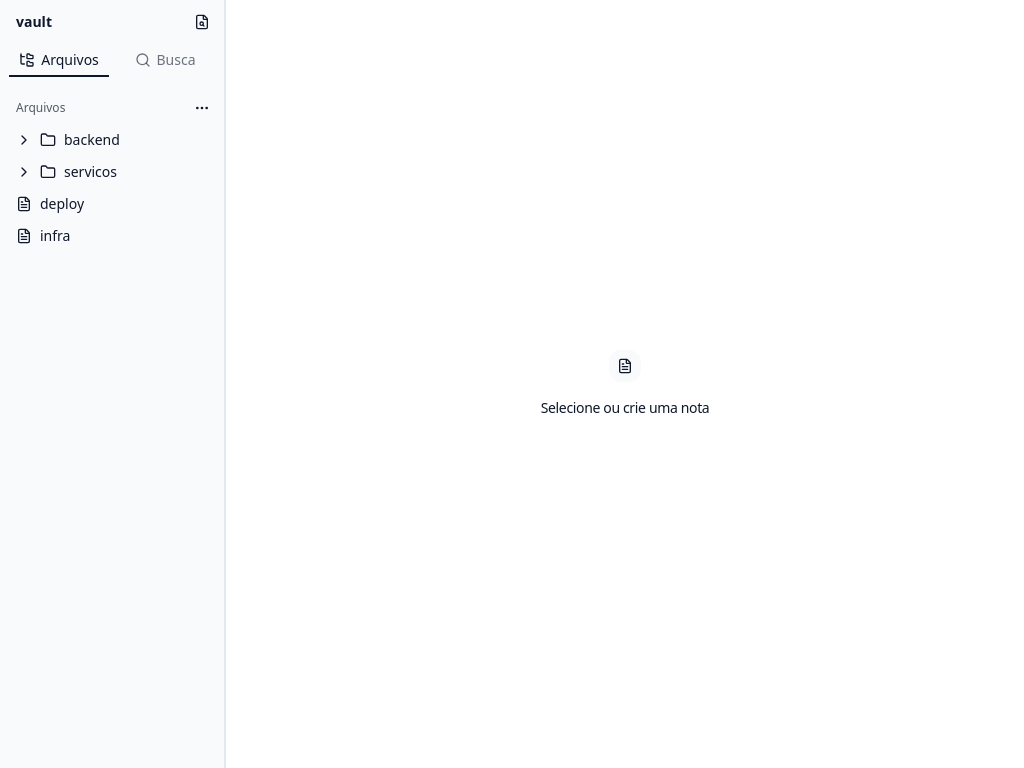
Test: o editor acompanha as operações do vault › excluir a nota aberta fecha o editor
The width and height of the screenshot is (1024, 768).
Expected: the navigation bar named "Arquivos do vault" is shown, [8,124,216,252]
What coordinates should you click on to do the following:
click the button "deploy"
I would click on:
 (112, 204)
Its box is [8,188,216,220].
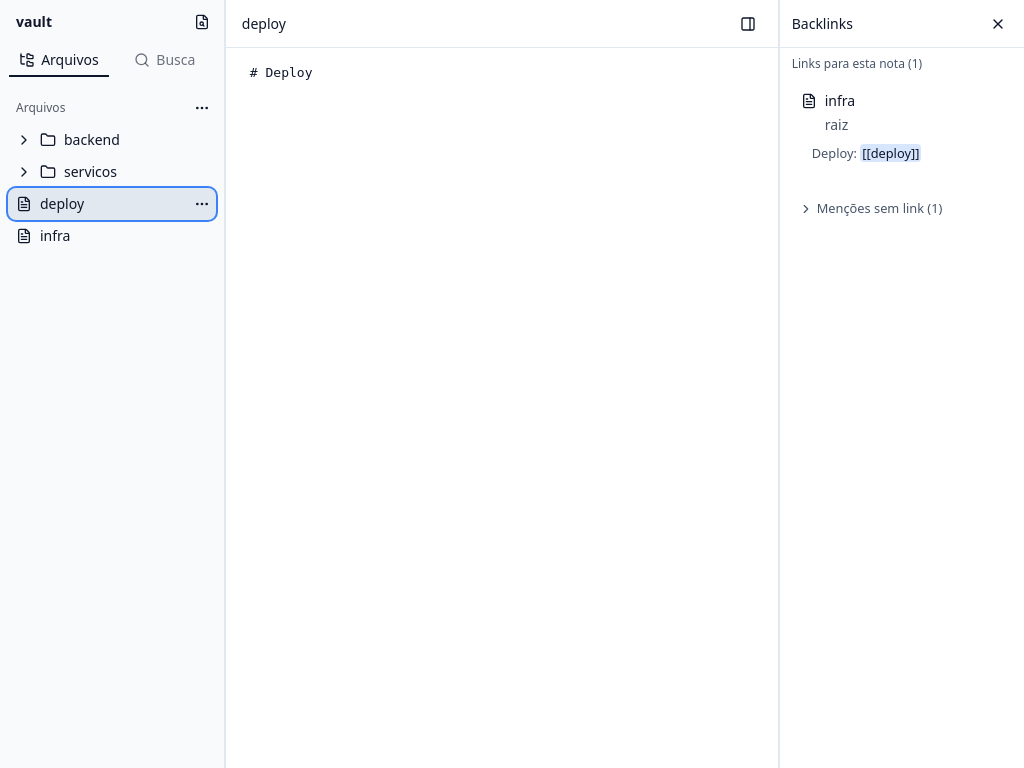
Now the element "deploy" is shown, box [226,0,778,767]
What coordinates should you click on to do the following:
click the button named "Ações de deploy"
I would click on:
 (202, 204)
Its box is [192,194,212,214].
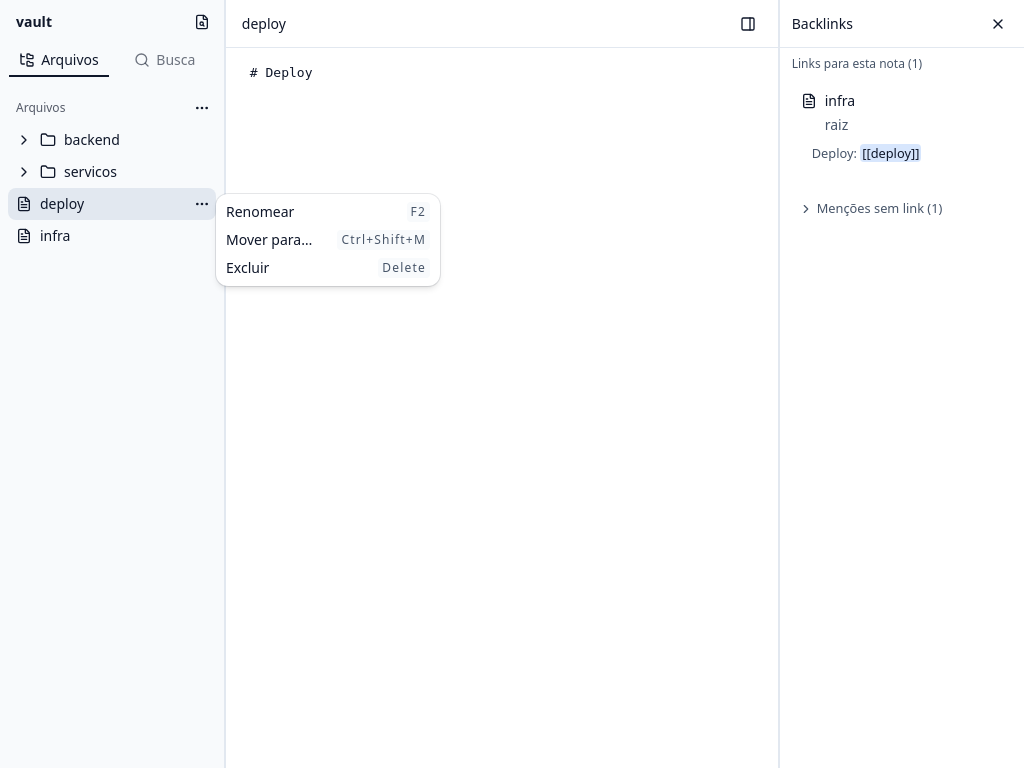
What coordinates should you click on to do the following:
click the menu item "Excluir Delete"
I would click on:
 (248, 268)
Its box is [220,254,436,282].
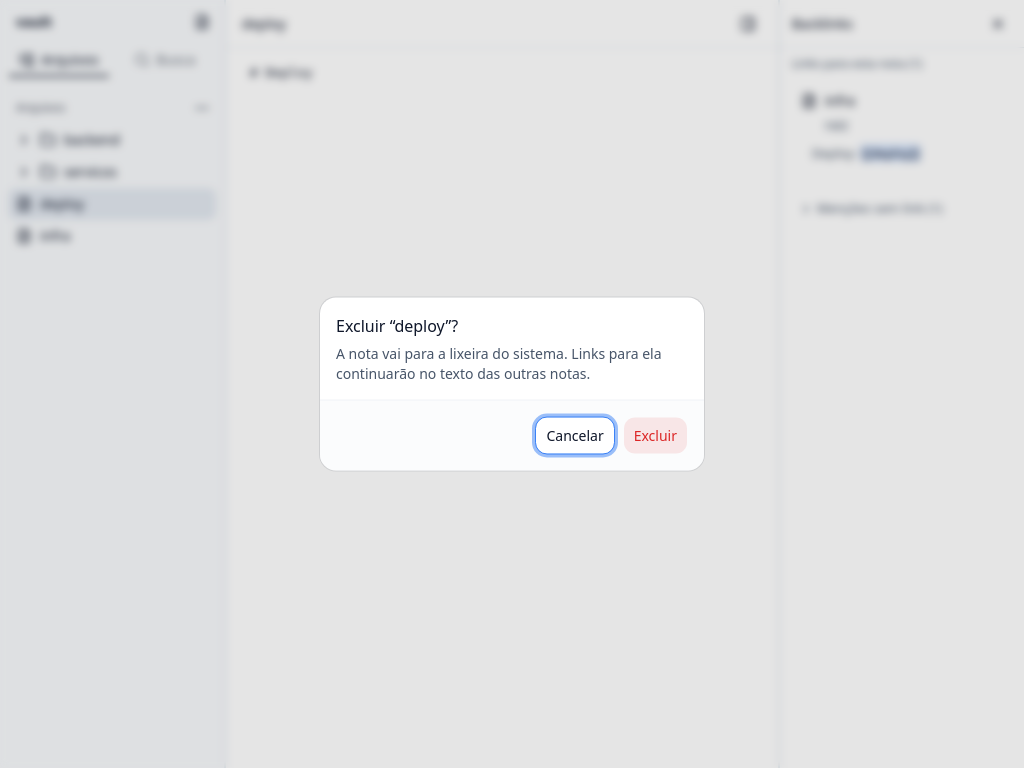
What coordinates should you click on to do the following:
click the button "Excluir"
I would click on:
 (655, 436)
Its box is [623,416,688,454].
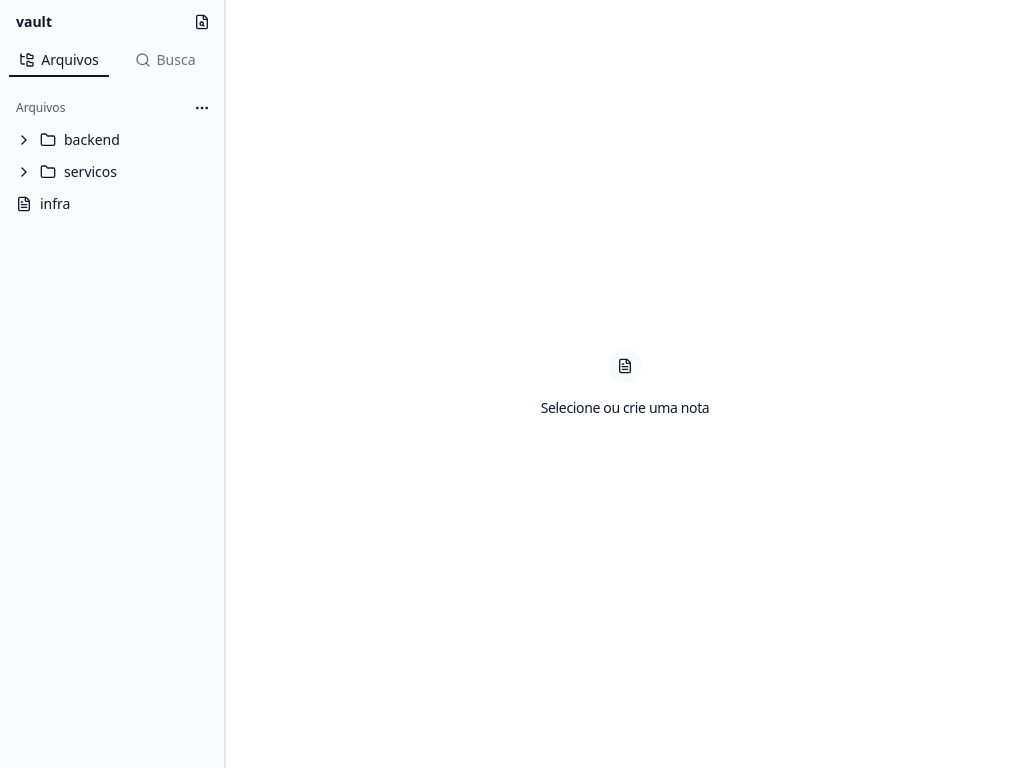
Now the heading "Selecione ou crie uma nota" is shown, box [541,398,709,418]
